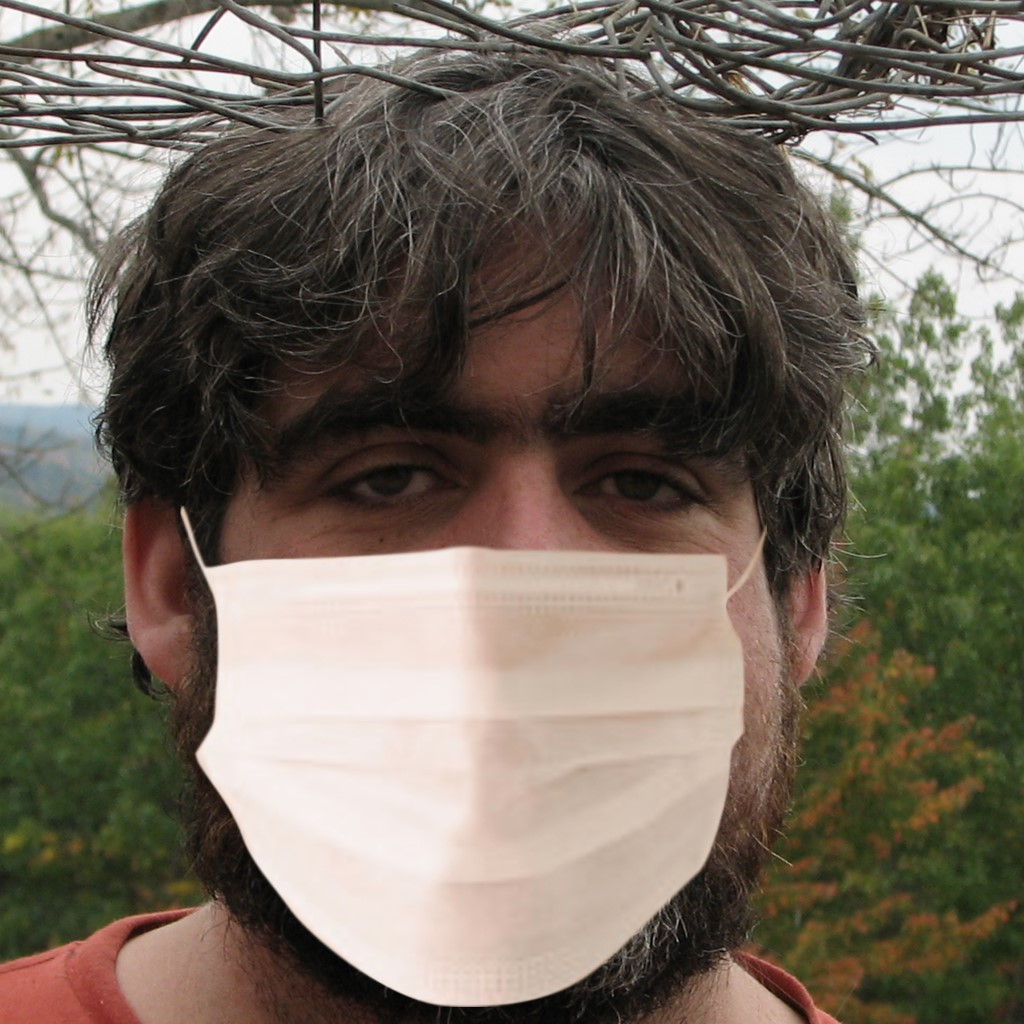con_mascara: (169, 232, 789, 982)
